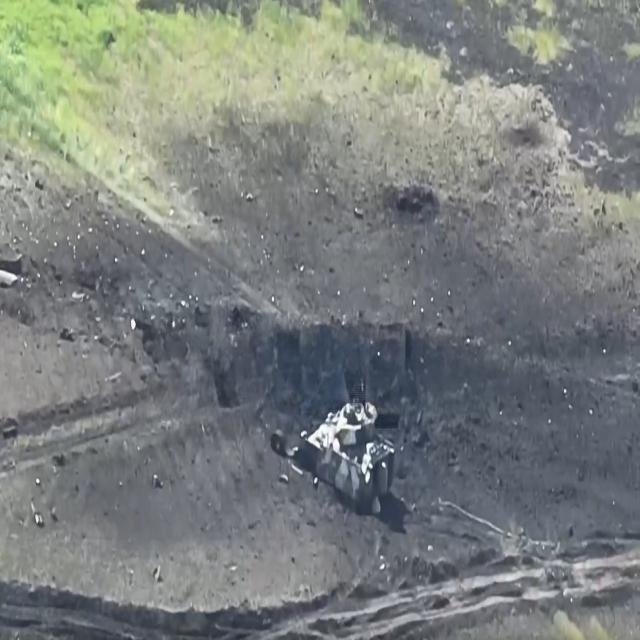AIFV: (300, 395, 397, 509)
